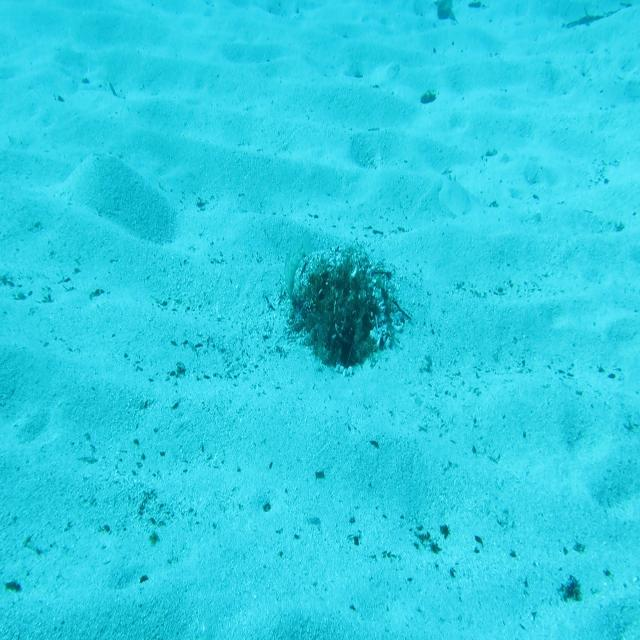NIP_IN: (282, 233, 315, 299)
core_nest: (324, 287, 360, 314)
nest: (289, 253, 400, 378)
